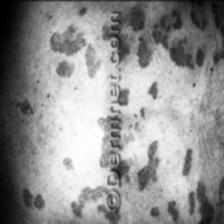Non-Cancerous Skin Condition: (129, 1, 224, 103), (133, 134, 224, 224), (48, 4, 103, 88), (69, 164, 104, 224), (23, 174, 45, 216)
